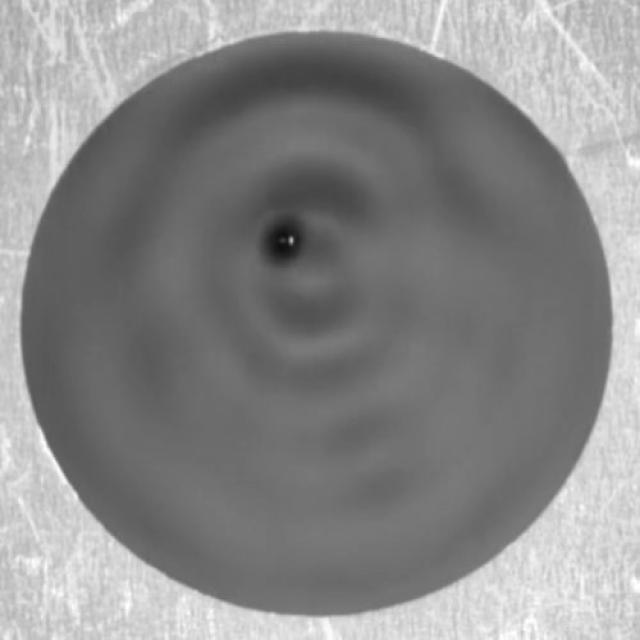droplet: (276, 227, 298, 258)
